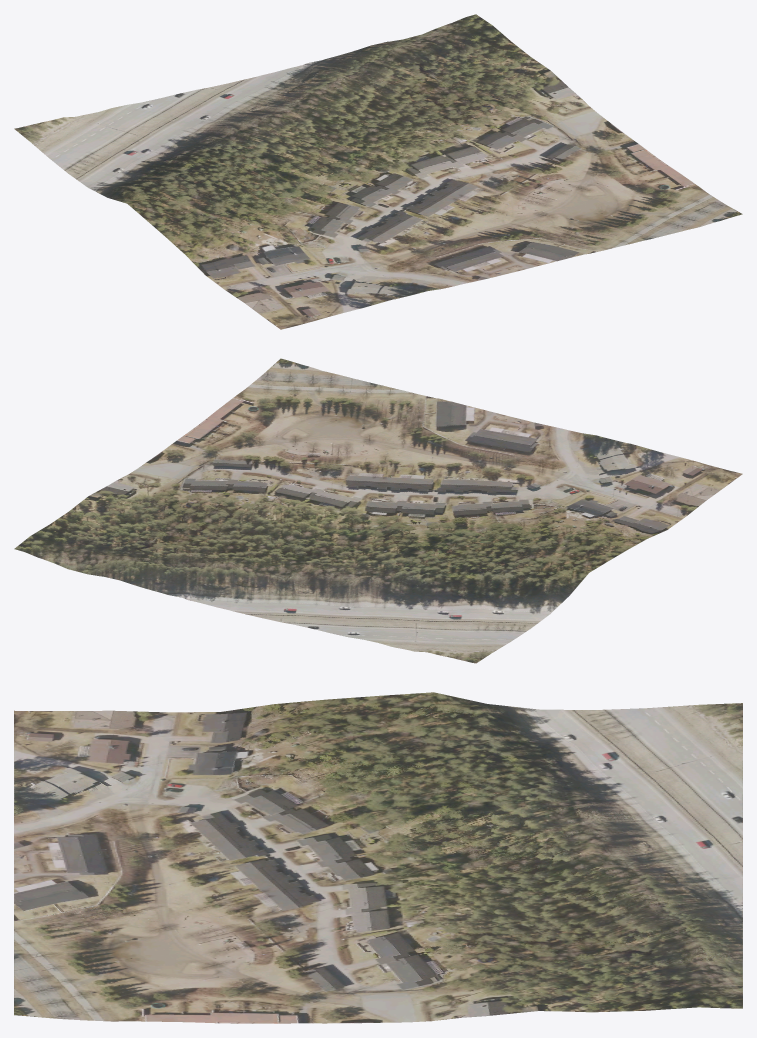
The model's file is CM_Terrain_24490458_6817541.fbx.
3 renders of one model, top to bottom at view 1: azimuth 30°, elevation 25°; view 2: azimuth 150°, elevation 25°; view 3: azimuth 270°, elevation 25°, orthographic. The views are drawn at different scales.
Visible parts, largest first — view 1: CM_Terrain_24490458_6817541_LOD0; view 2: CM_Terrain_24490458_6817541_LOD0; view 3: CM_Terrain_24490458_6817541_LOD0.
Part boxes in pixels (<box>): CM_Terrain_24490458_6817541_LOD0: <box>14,14,742,329</box>; CM_Terrain_24490458_6817541_LOD0: <box>14,358,742,663</box>; CM_Terrain_24490458_6817541_LOD0: <box>14,692,742,1023</box>.
Size of what is drawn, in the model's own units: 205 by 7.44 by 205.
